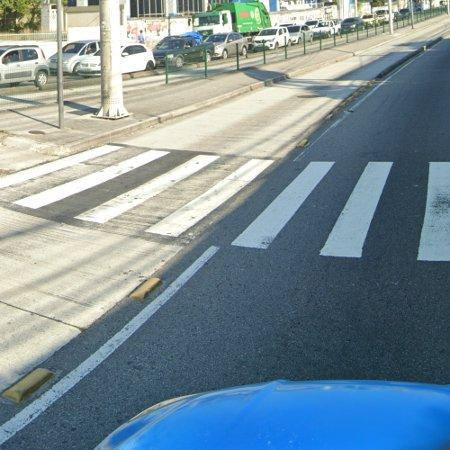crosswalks: (0, 142, 450, 264)
